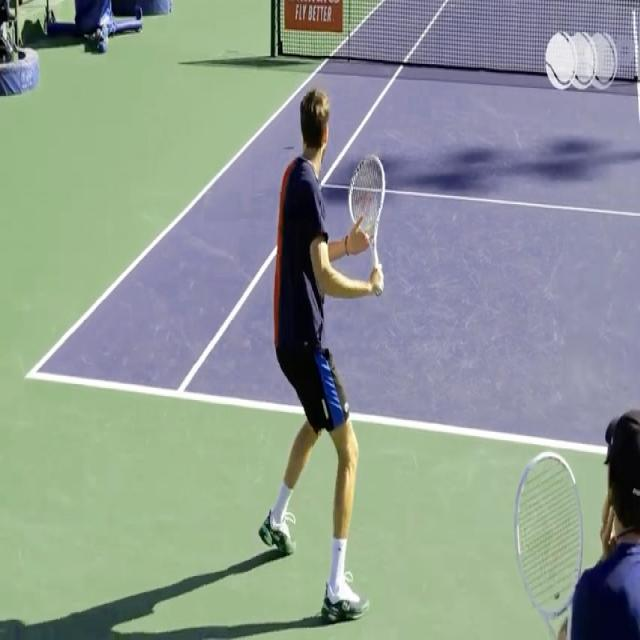ready-position: (262, 90, 385, 624)
